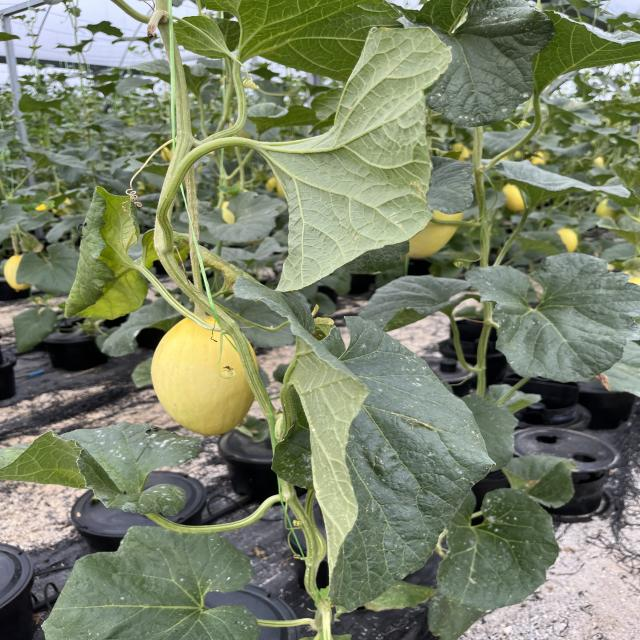downy mildew: (256, 306, 515, 600), (380, 0, 638, 127), (40, 530, 266, 640), (50, 185, 153, 326)
healthy: (254, 22, 468, 296), (459, 250, 640, 387), (181, 0, 402, 62)
powdery mildew: (0, 423, 211, 522)
